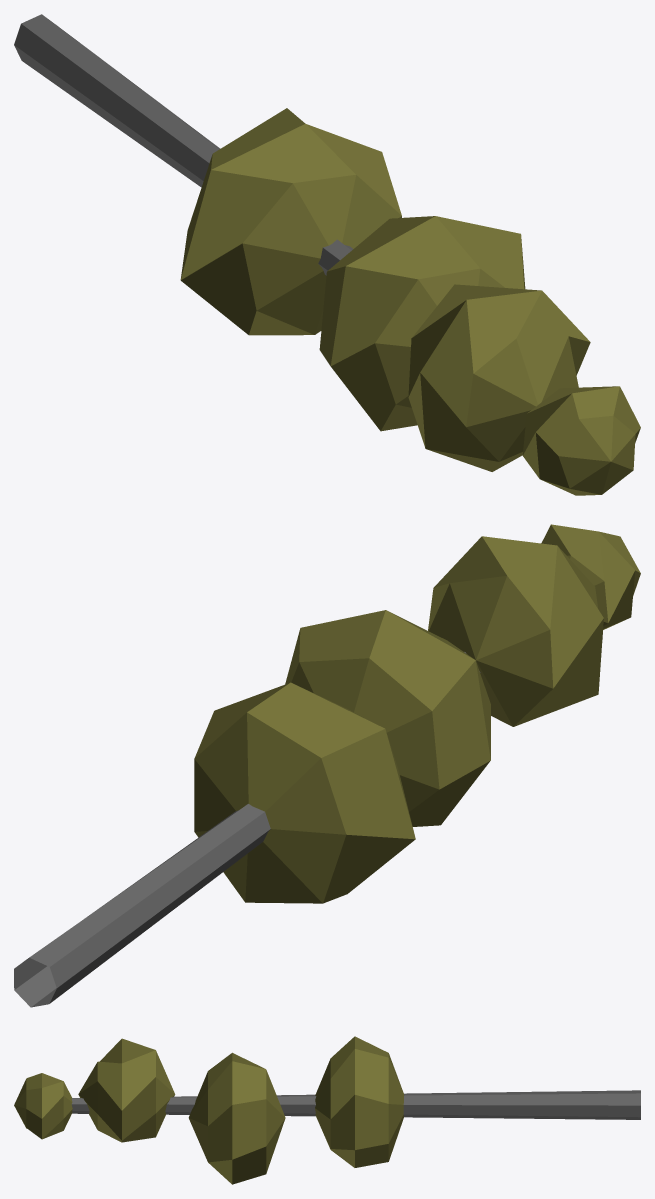
The model's file is dying_0.glb.
3 views of the same model, one above another, from view 1: azimuth 30°, elevation 25°; view 2: azimuth 150°, elevation 25°; view 3: azimuth 270°, elevation 25° (orthographic). The views are drawn at different scales.
Parts seen in each view (by area): view 1: tree_05_dying_0; view 2: tree_05_dying_0; view 3: tree_05_dying_0.
Part boxes in pixels (box(x1,y1,x2,y2)): tree_05_dying_0: box(14, 14, 640, 495); tree_05_dying_0: box(14, 524, 640, 1007); tree_05_dying_0: box(14, 1036, 640, 1184).
Size of the model in its own units: 11.17 by 10.13 by 47.3.
